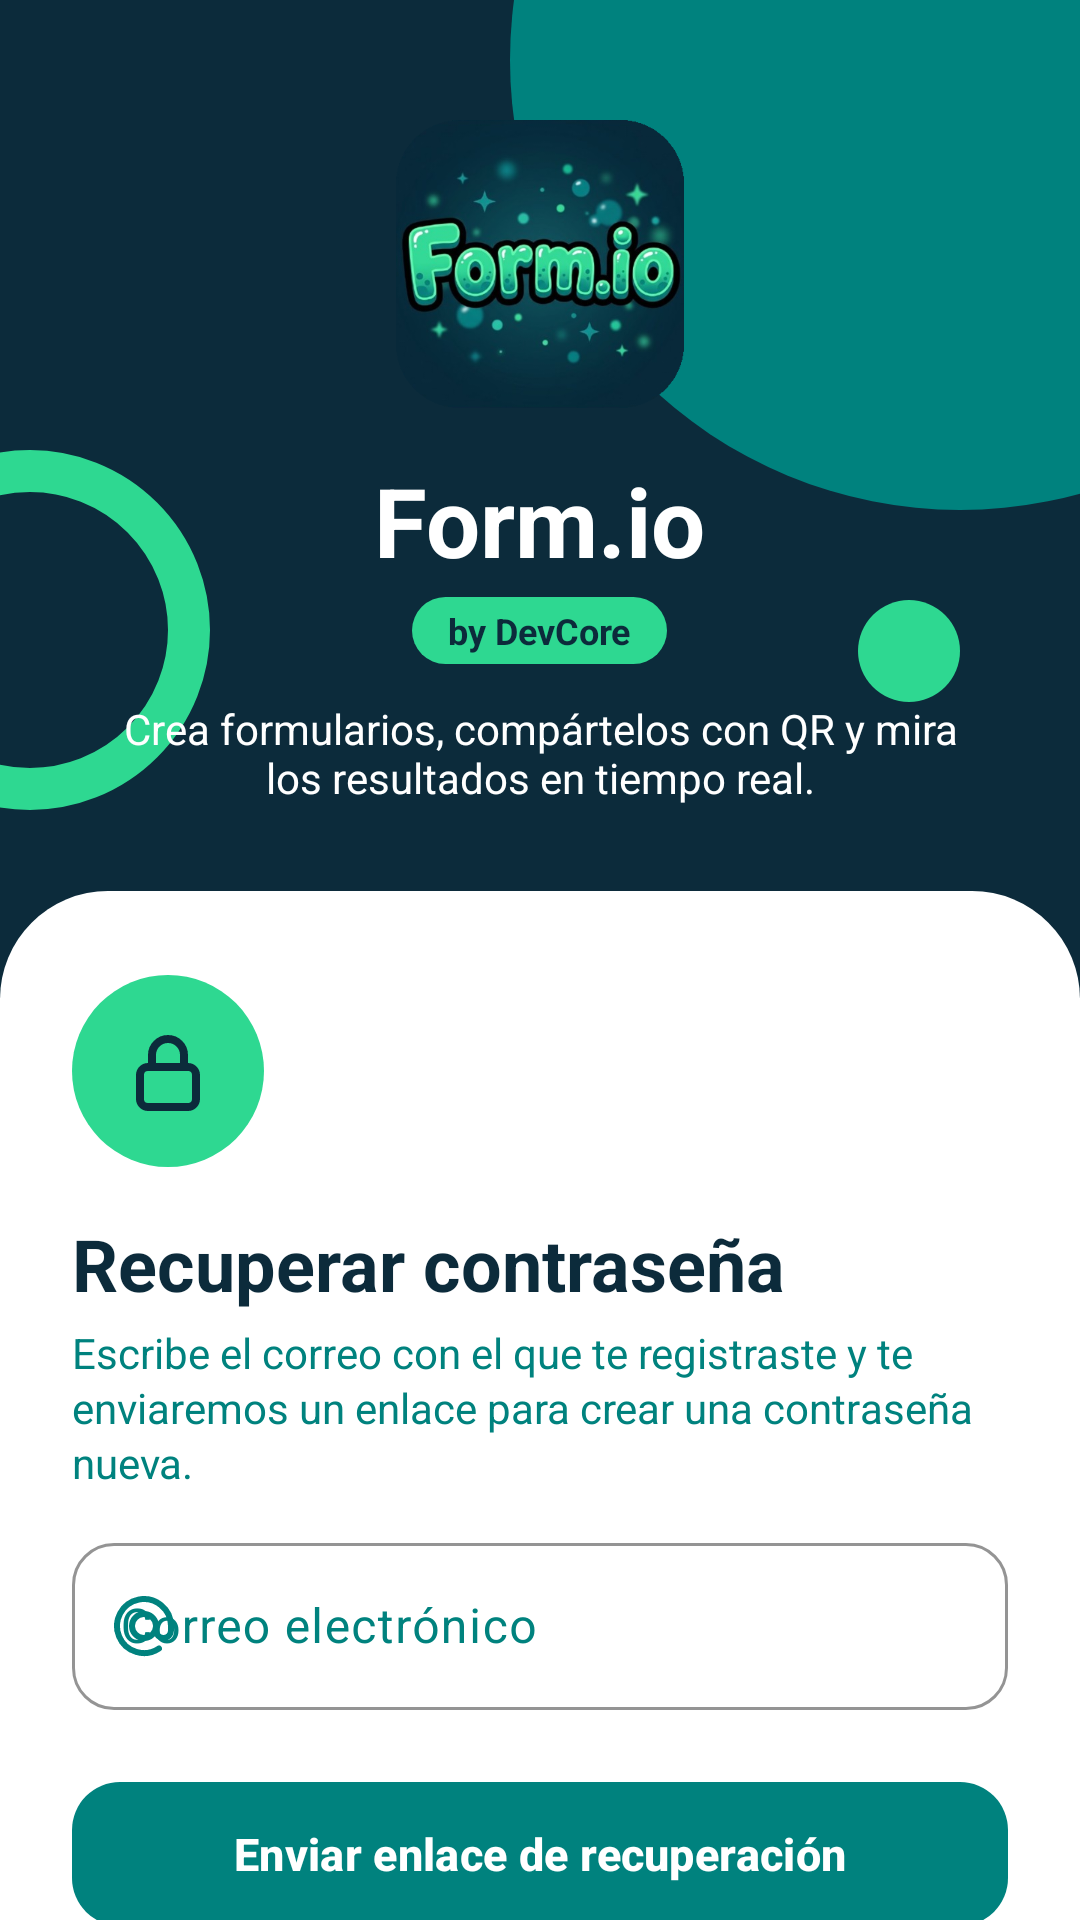

Locate icon controls on the screen. Image size 1080w x 1920h, boxes as (x1, y1, x2, y2).
candado: (72, 975, 264, 1167)
